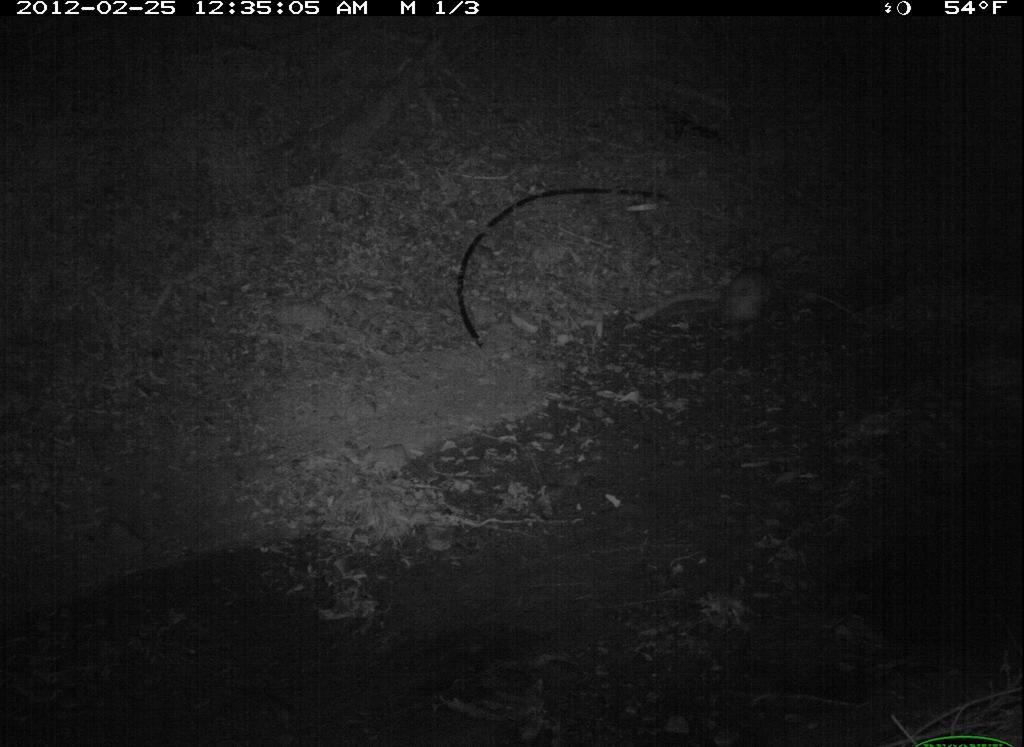opossum: (696, 263, 809, 350)
